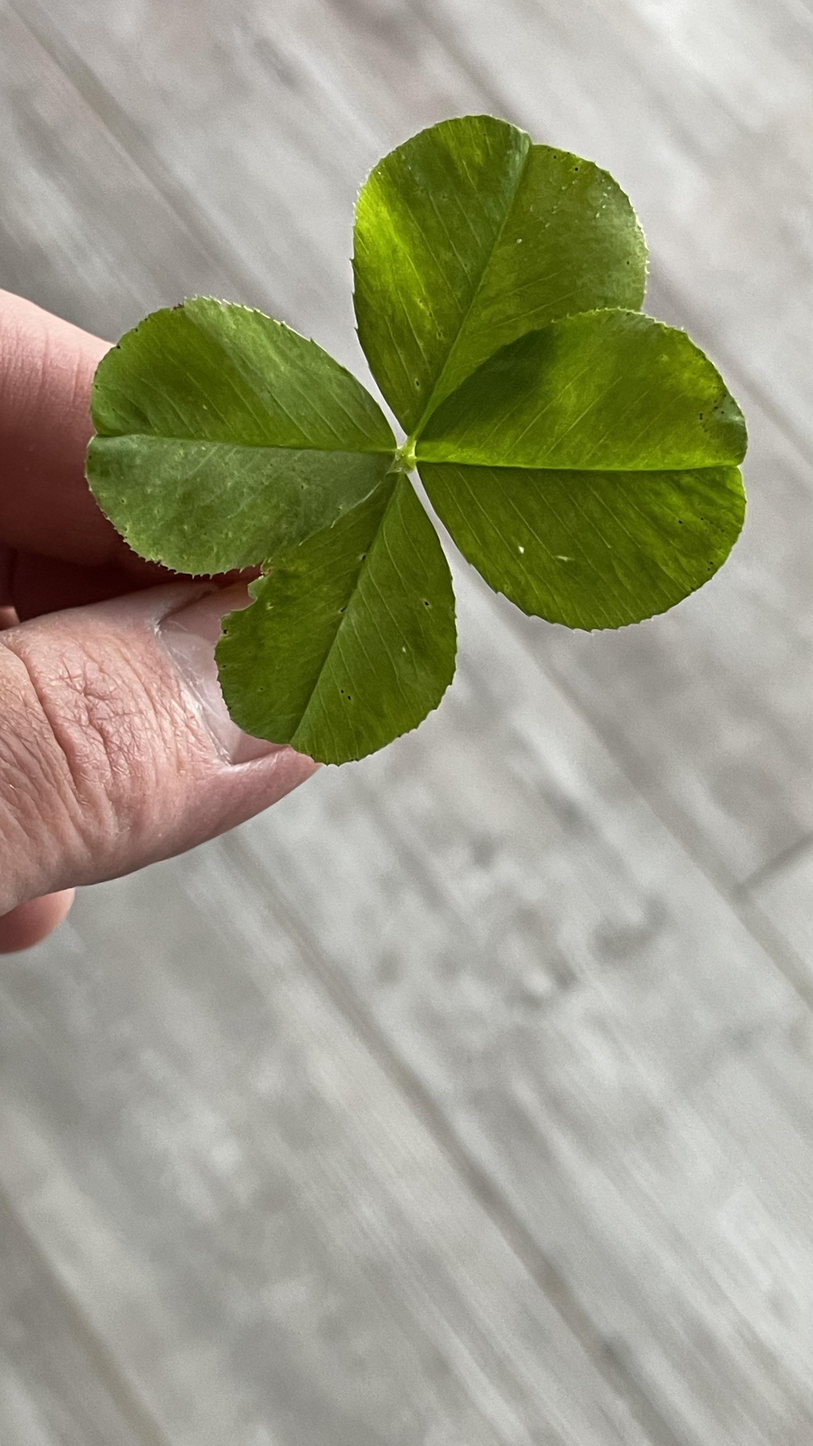4-Leaf-Clovers: (66, 113, 428, 1287)
